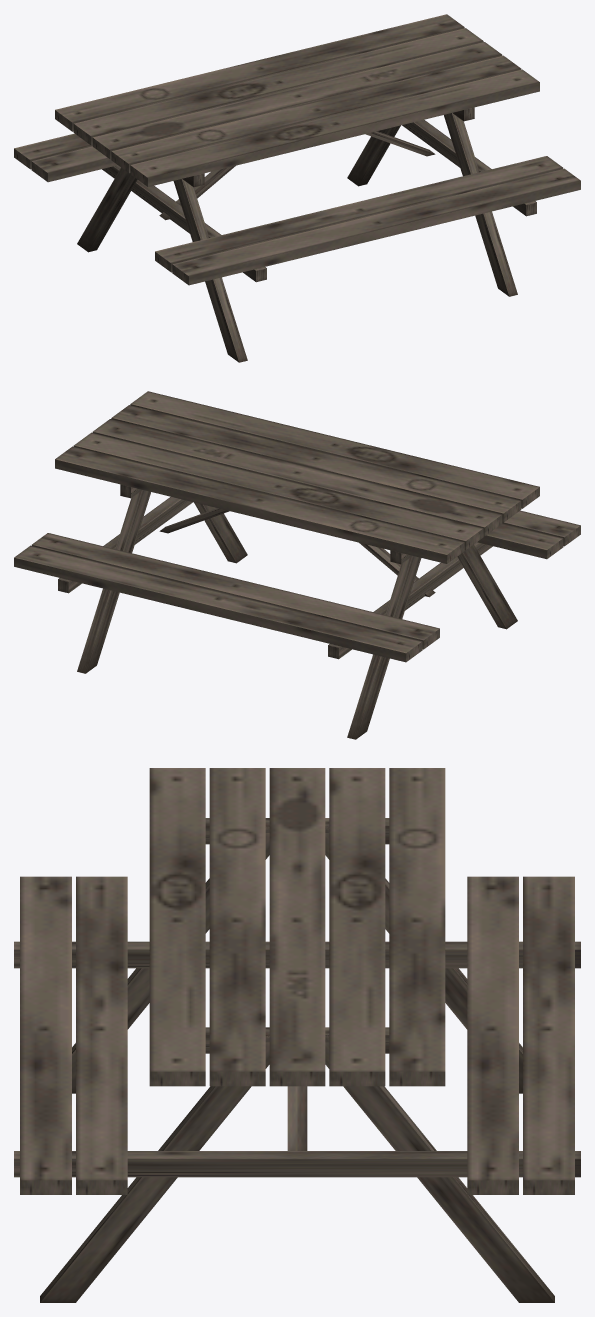
Rendered from picnic_table.obj.
3 views of the same model, one above another, from view 1: azimuth 30°, elevation 25°; view 2: azimuth 150°, elevation 25°; view 3: azimuth 270°, elevation 25° (orthographic). The views are drawn at different scales.
Parts seen in each view (by area): view 1: picnic_table; view 2: picnic_table; view 3: picnic_table.
Boxes of the visible parts, x1,y1,x2,y2 form: picnic_table: (14, 14, 580, 362); picnic_table: (14, 391, 580, 739); picnic_table: (14, 768, 580, 1302).
Bounding box in the file's own units: 1.8 × 0.76 × 1.42.
Materials: 1 (1 with a texture image).
